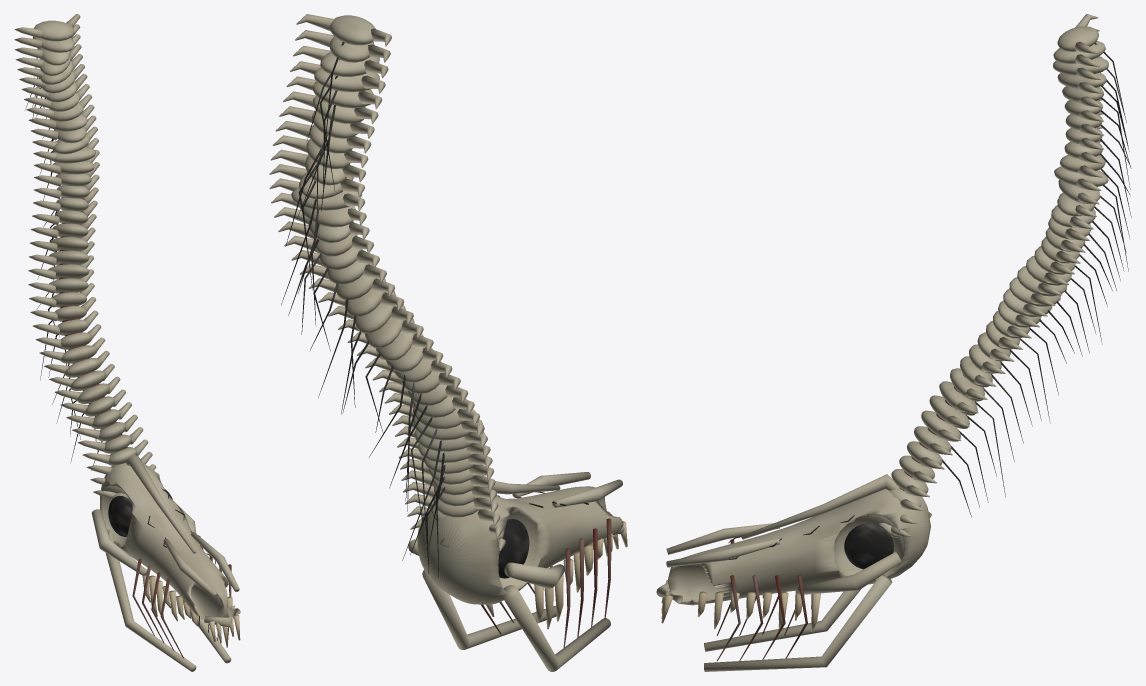
File: vent-ossuary-v21.glb
3 views of the same model, side by side, from view 1: azimuth 30°, elevation 25°; view 2: azimuth 150°, elevation 25°; view 3: azimuth 270°, elevation 25° (orthographic). The views are drawn at different scales.
Parts seen in each view (by area): view 1: Excavatedweatheredivory, Crackedirregularmolars, Driedexposedsinew, Unlitbonecavities, Blackfilamentmane; view 2: Excavatedweatheredivory, Blackfilamentmane, Crackedirregularmolars, Driedexposedsinew, Unlitbonecavities; view 3: Excavatedweatheredivory, Blackfilamentmane, Crackedirregularmolars, Unlitbonecavities, Driedexposedsinew.
Boxes of the visible parts, left/top/right/bottom form: Excavatedweatheredivory: left=14, top=14, right=240, bottom=671; Crackedirregularmolars: left=142, top=575, right=240, bottom=646; Driedexposedsinew: left=59, top=210, right=231, bottom=658; Unlitbonecavities: left=108, top=489, right=215, bottom=564; Blackfilamentmane: left=25, top=48, right=102, bottom=470; Excavatedweatheredivory: left=269, top=14, right=624, bottom=671; Blackfilamentmane: left=281, top=42, right=445, bottom=577; Crackedirregularmolars: left=486, top=521, right=627, bottom=629; Driedexposedsinew: left=481, top=497, right=611, bottom=647; Unlitbonecavities: left=496, top=492, right=588, bottom=578; Excavatedweatheredivory: left=656, top=14, right=1108, bottom=671; Blackfilamentmane: left=942, top=43, right=1131, bottom=517; Crackedirregularmolars: left=661, top=580, right=820, bottom=631; Unlitbonecavities: left=728, top=515, right=893, bottom=569; Driedexposedsinew: left=717, top=374, right=965, bottom=661.
Size of the model in its own units: 0.5431 by 2.8 by 1.91.
